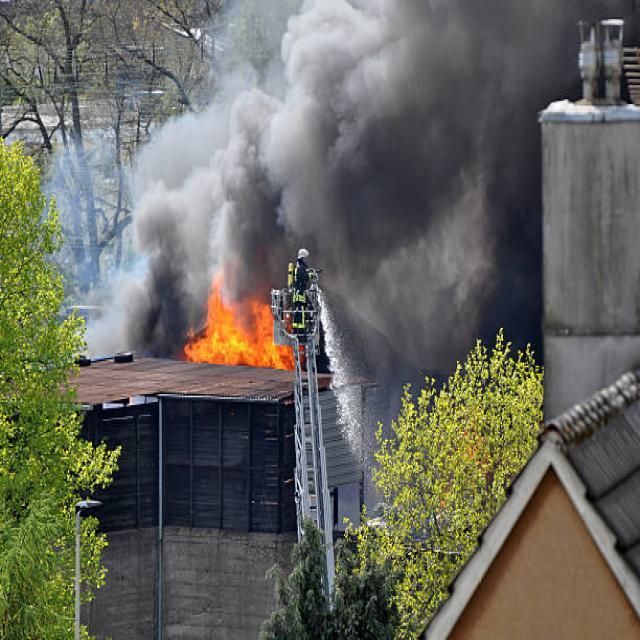Fire: (194, 274, 287, 382)
Smoke: (187, 0, 540, 343), (110, 158, 220, 338)
